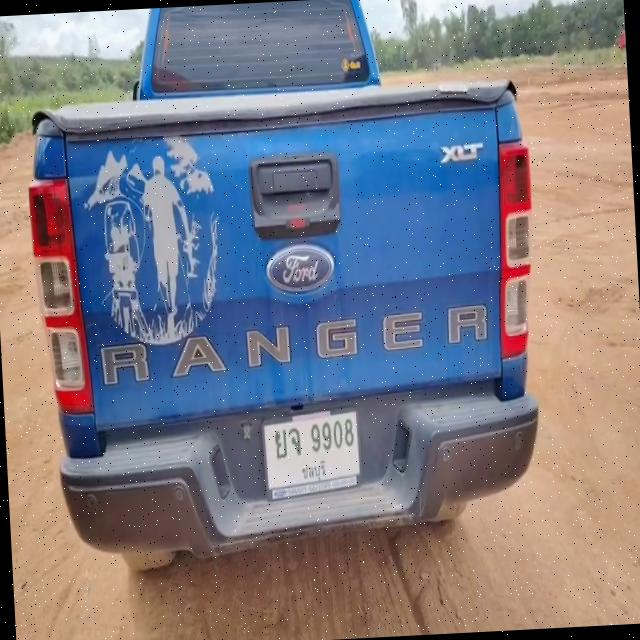Digit: (309, 416, 356, 456)
Licenseplate: (260, 408, 364, 498)
Provincename: (300, 456, 327, 484)
Thaichar: (274, 422, 303, 462)
